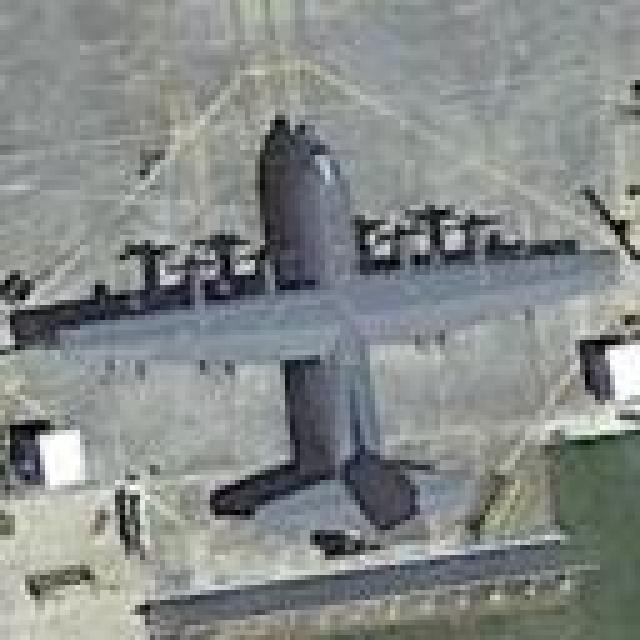C-130_TopDown: (7, 111, 624, 556)
